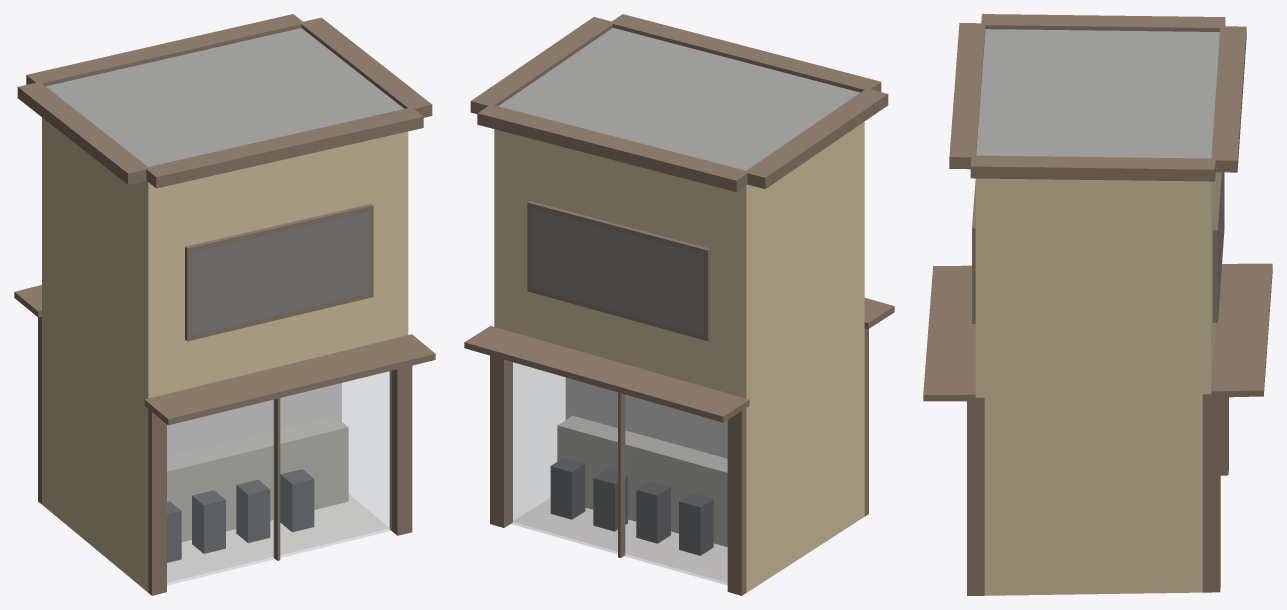
The model's file is d12-nonbei-w138670865-row.glb.
The picture shows the model from 3 angles, left to right: view 1: azimuth 30°, elevation 25°; view 2: azimuth 150°, elevation 25°; view 3: azimuth 270°, elevation 25°; orthographic projection. The views are drawn at different scales.
Visible parts, largest first — view 1: INFERRED_body.001, INFERRED_ground.001; view 2: INFERRED_body.001, INFERRED_ground.001; view 3: INFERRED_body.001.
Part boxes in pixels (x1,y1,x2,y2): INFERRED_body.001: (14, 14, 435, 595); INFERRED_ground.001: (167, 371, 391, 585); INFERRED_body.001: (464, 14, 894, 595); INFERRED_ground.001: (511, 362, 727, 584); INFERRED_body.001: (923, 14, 1272, 595).
Size of the model in its own units: 4.21 by 5.62 by 4.
Materials: 4 (1 with a texture image).
